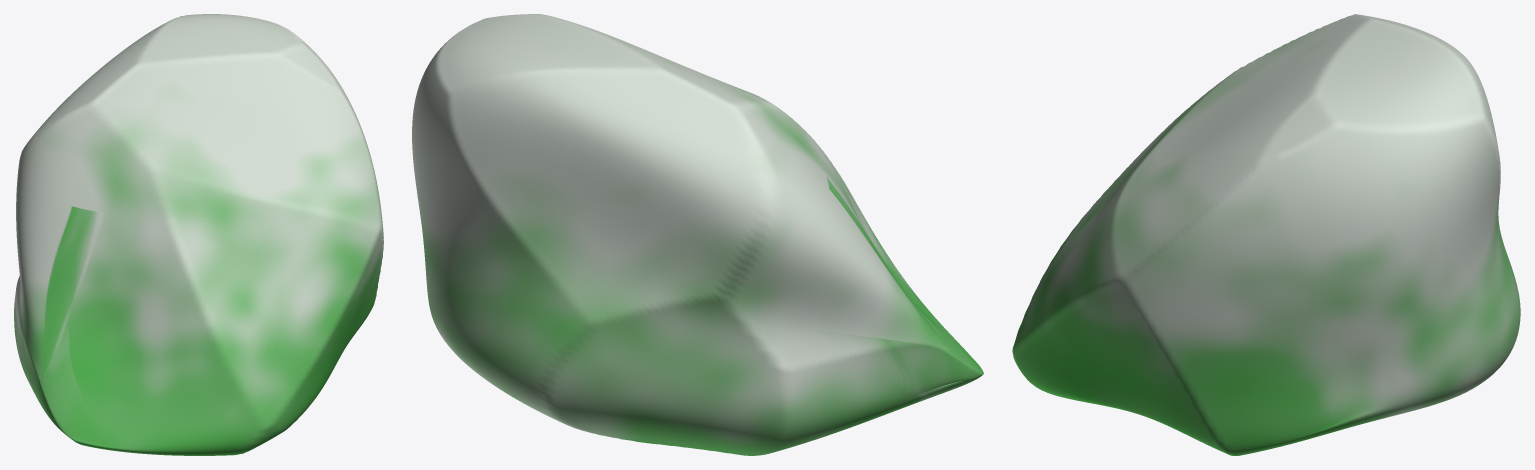
Rendered from Roca3.obj.
The picture shows the model from 3 angles, left to right: view 1: azimuth 30°, elevation 25°; view 2: azimuth 150°, elevation 25°; view 3: azimuth 270°, elevation 25°; orthographic projection. The views are drawn at different scales.
Parts seen in each view (by area): view 1: Roca3; view 2: Roca3; view 3: Roca3.
Boxes of the visible parts, bbox=[...] form: Roca3: bbox=[14, 14, 383, 455]; Roca3: bbox=[412, 14, 983, 455]; Roca3: bbox=[1012, 14, 1520, 455].
Bounding box in the file's own units: 4 × 3.24 × 3.83.
1 material, 1 textured.
